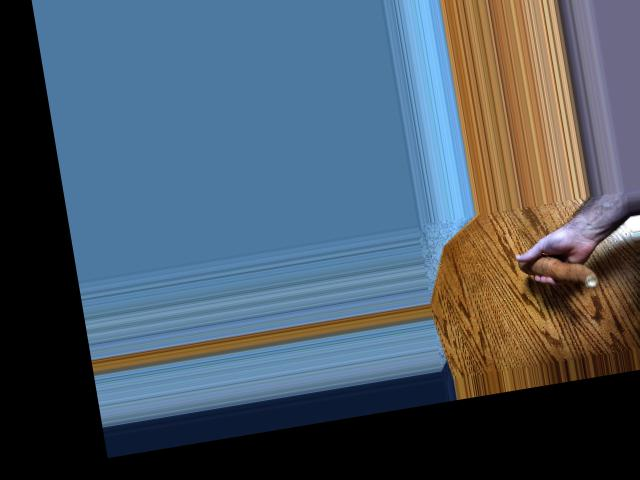sweet_potato: (518, 244, 602, 297)
